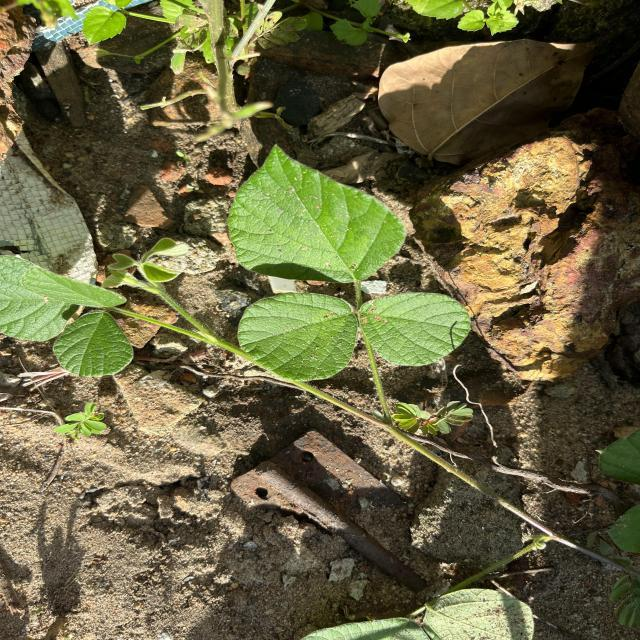Pseudarthria viscida: (226, 142, 474, 382)
